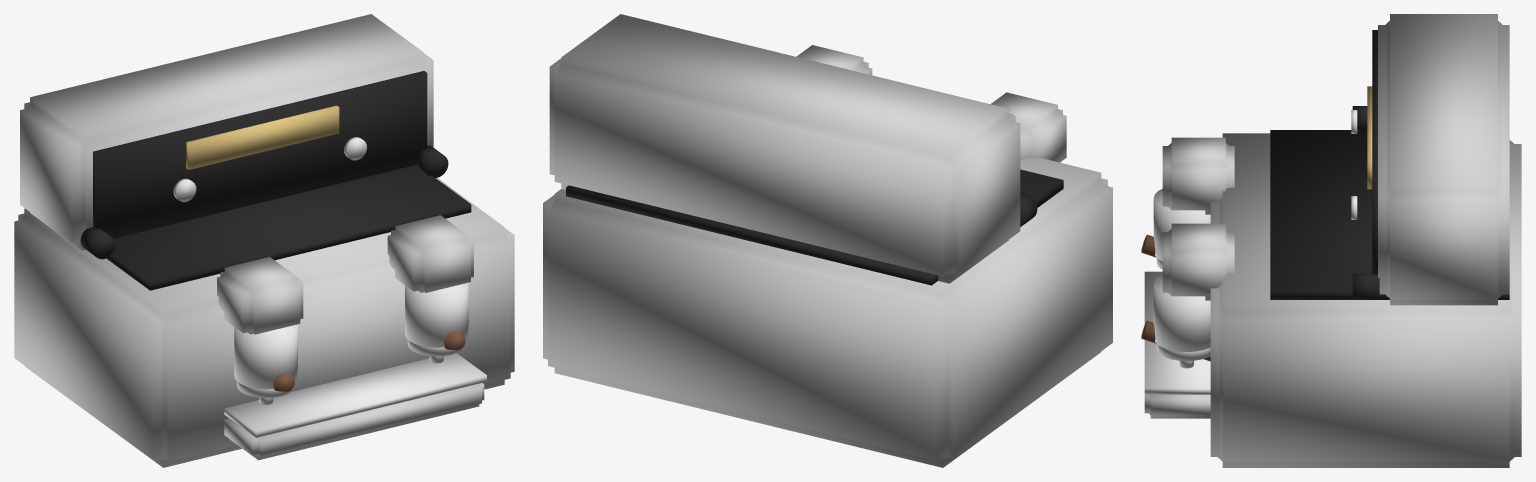
Rendered from espresso_modern.glb.
3 views of the same model, side by side, from view 1: azimuth 30°, elevation 25°; view 2: azimuth 150°, elevation 25°; view 3: azimuth 270°, elevation 25° (orthographic). The views are drawn at different scales.
Parts seen in each view (by area): view 1: espresso_modern; view 2: espresso_modern; view 3: espresso_modern.
Part boxes in pixels (left/top/right/bottom): espresso_modern: left=14, top=14, right=514, bottom=467; espresso_modern: left=543, top=14, right=1112, bottom=467; espresso_modern: left=1141, top=14, right=1521, bottom=467.
Size of the model in its own units: 0.72 by 0.52 by 0.6359.
